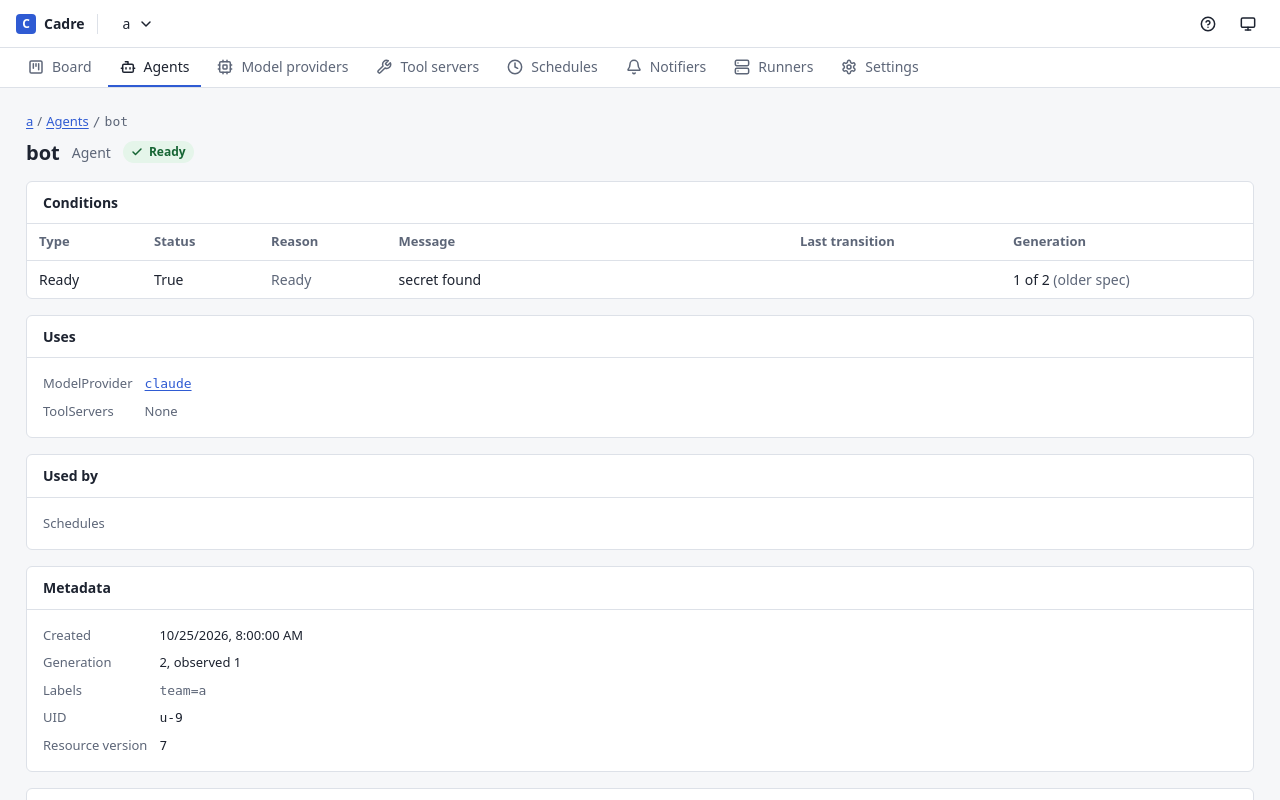
it: ModelProviderDetail › is opened from an Agent's modelRef
The image size is (1280, 800).
Click the link "claude": click(168, 384) [145, 374, 192, 394]
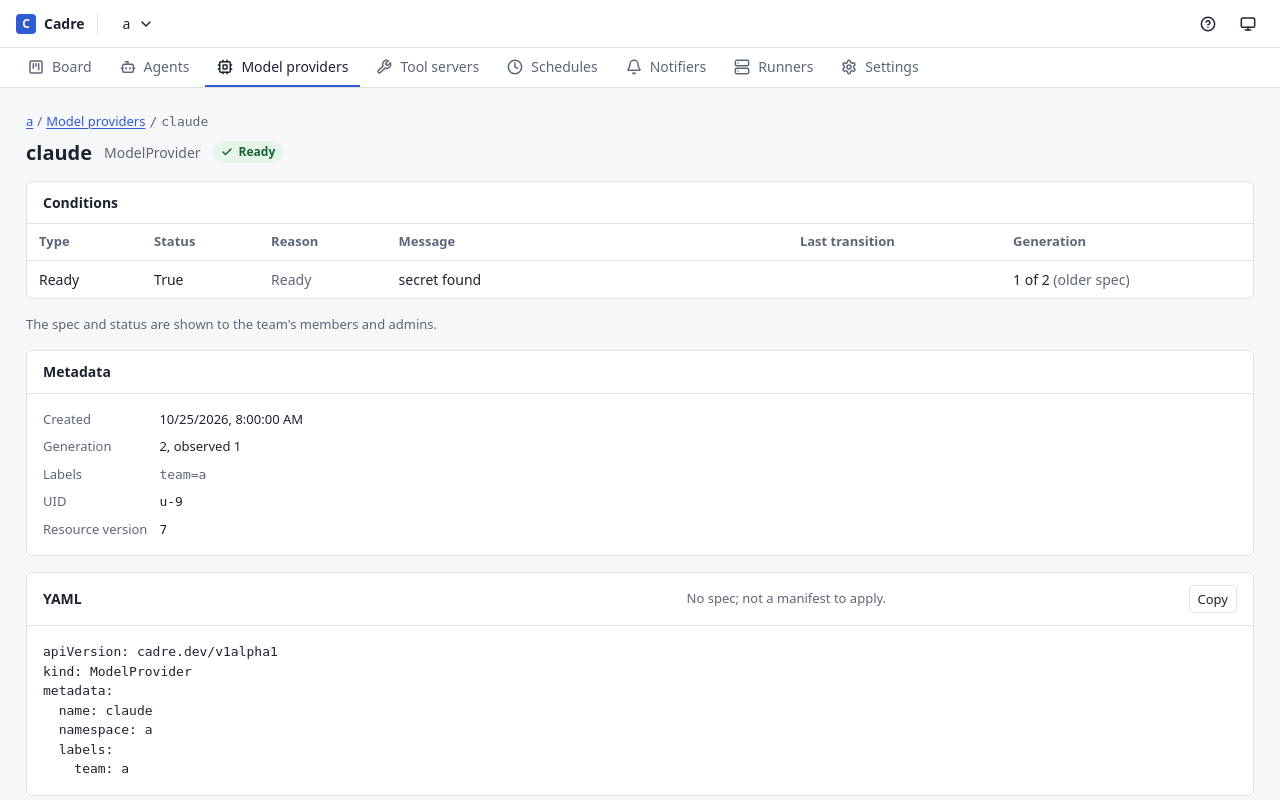
Check: the heading "claude" is shown, box [26, 140, 92, 164]
Check: the text "ModelProvider" is shown, box [104, 142, 201, 162]
